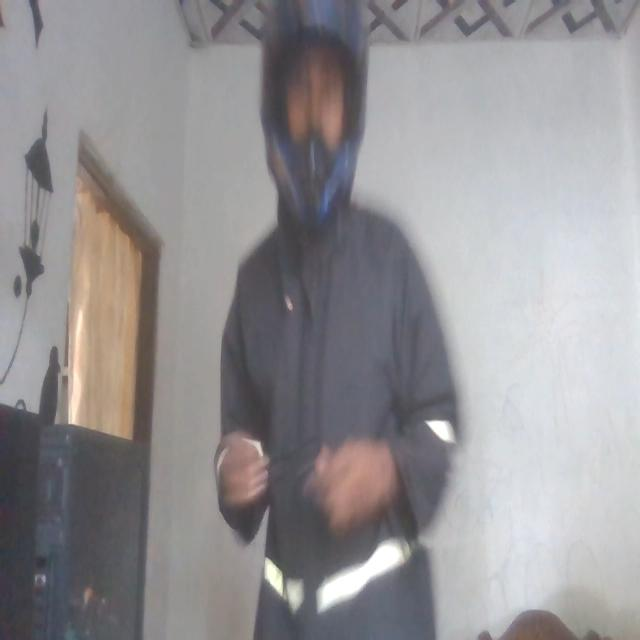Helmet_Wearer: (257, 0, 367, 220)
Jacket_Wearer: (222, 210, 450, 640)
Person: (217, 0, 458, 640)
